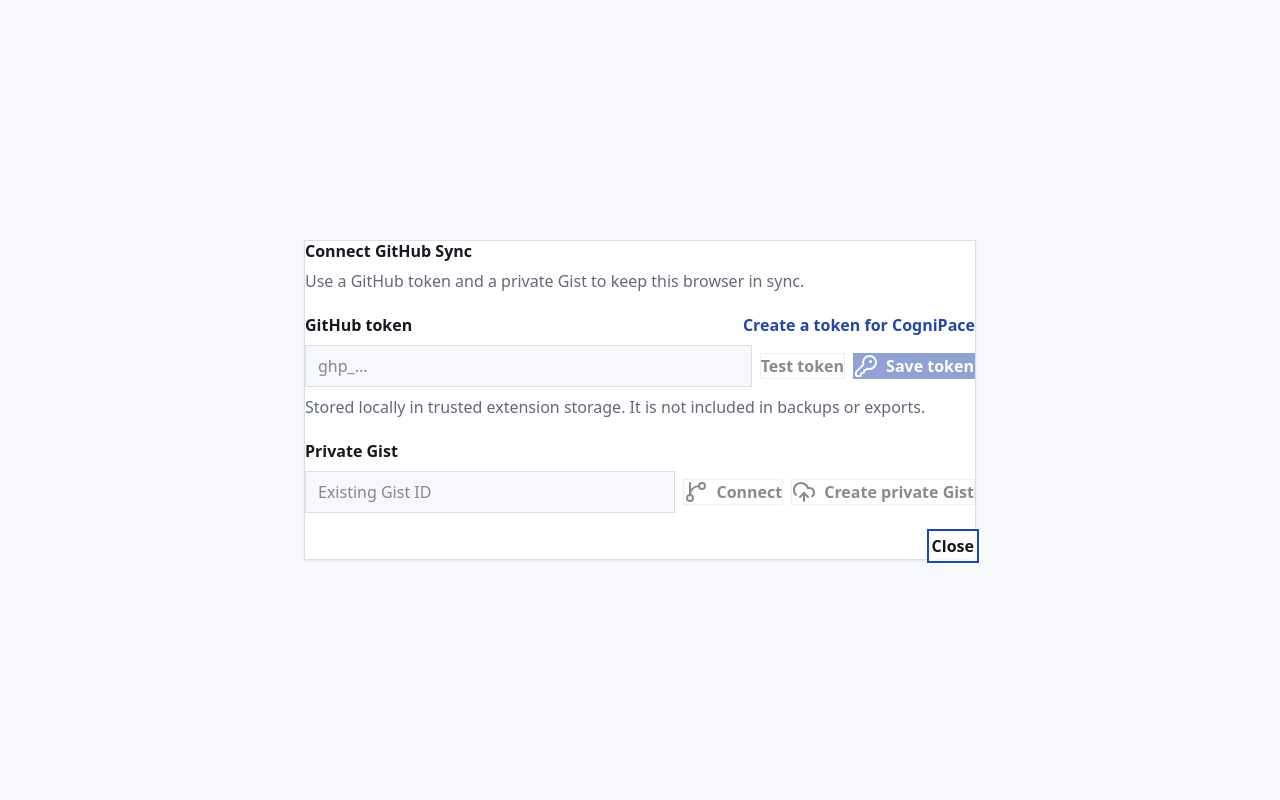
Scenario: GitHubSyncConnectionDialog › tests a typed token without saving it
This screenshot has width=1280, height=800.
Type "ghp_secret" into the password field named "Access token" at (528, 366), box [305,345,752,387]
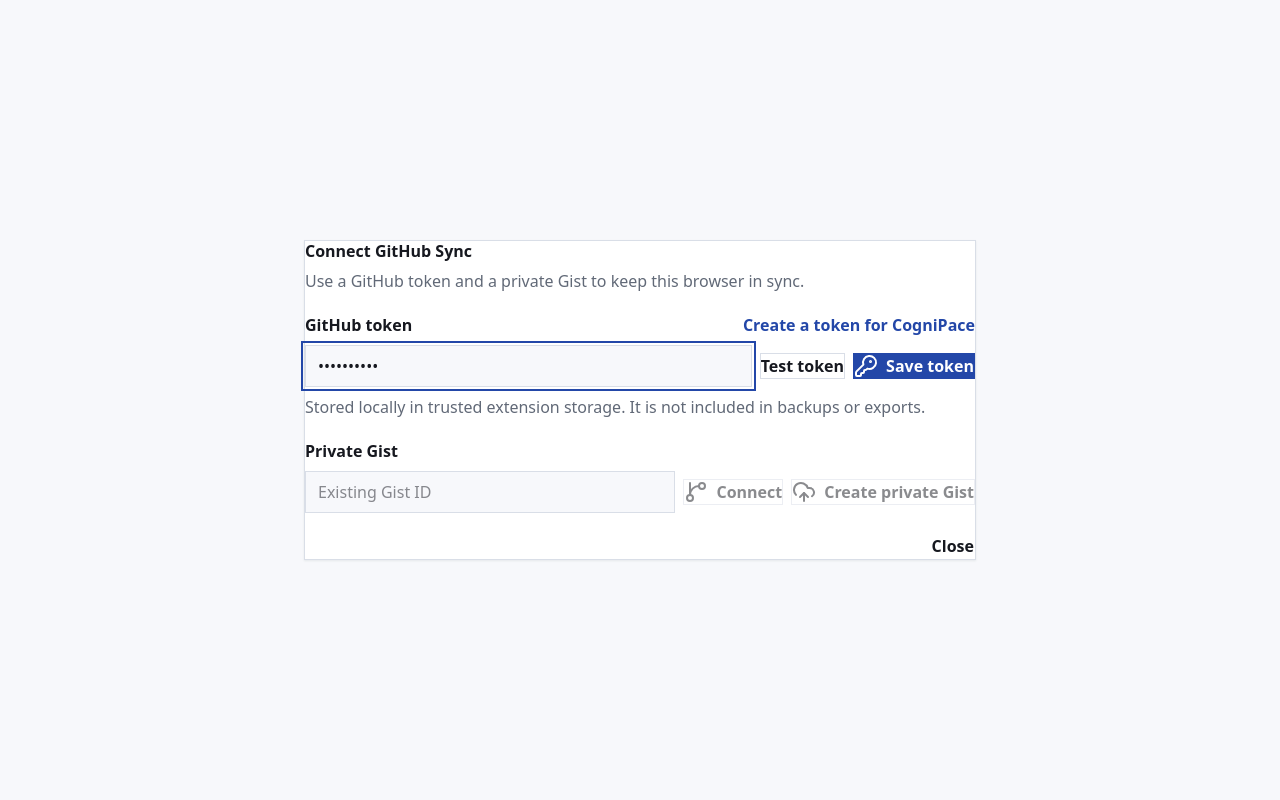
Click the button "Test token" at (802, 366), box [760,353,845,379]
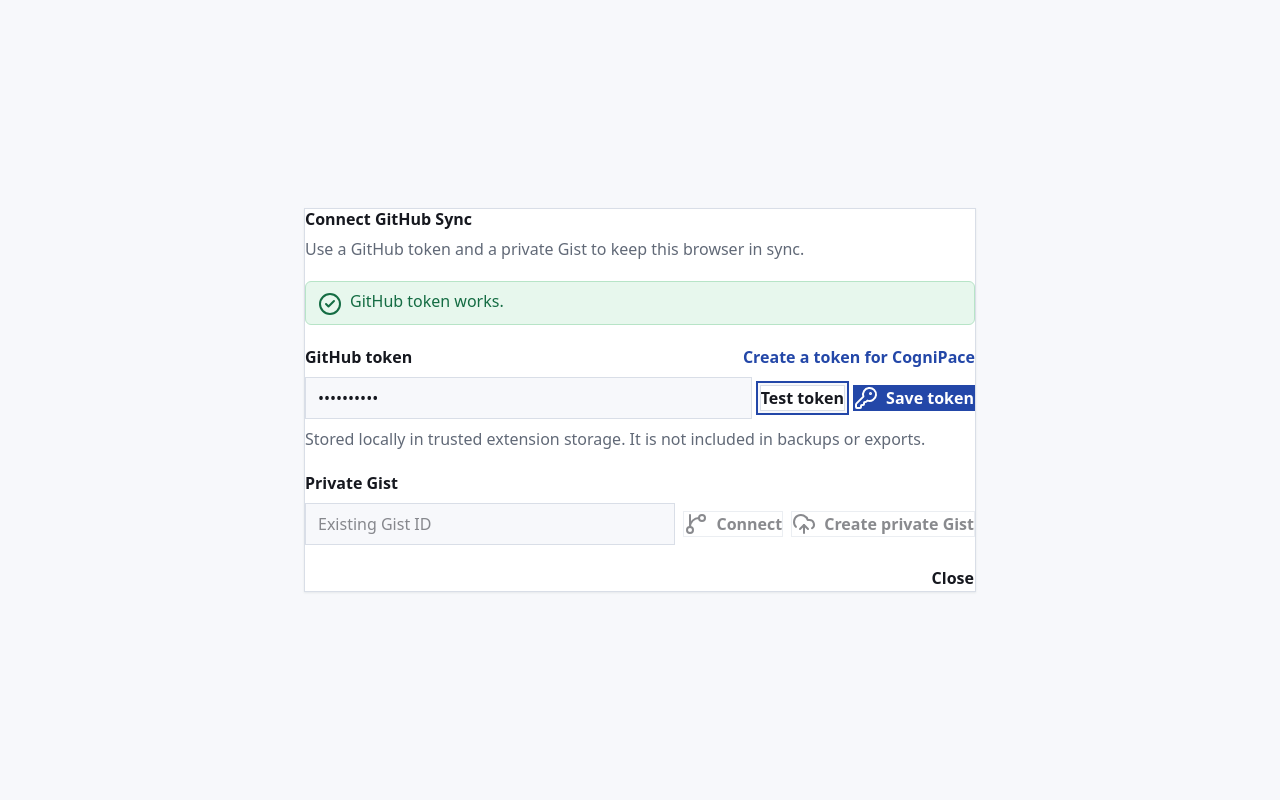
Now the message shows "GitHub token works", box [350,290,504,312]
